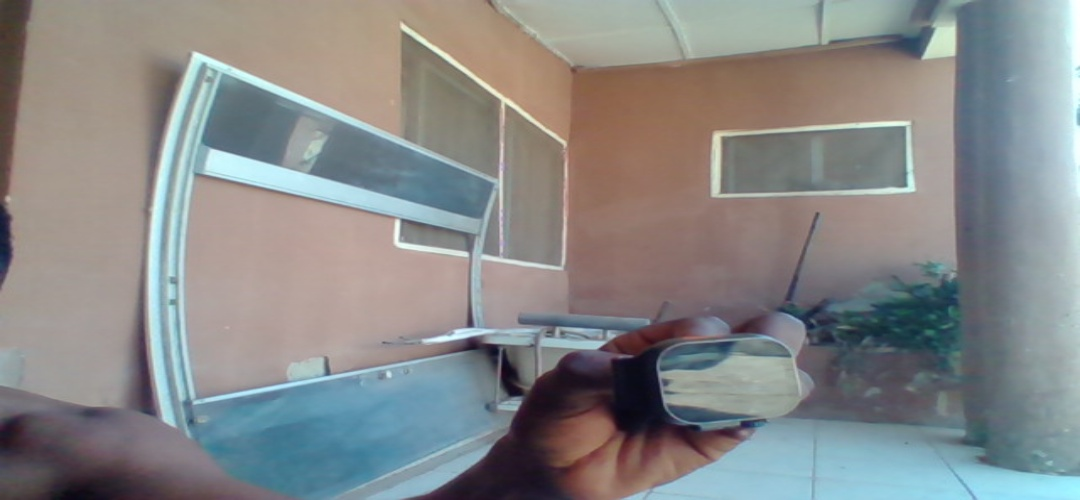smart_watch: (614, 334, 805, 432)
